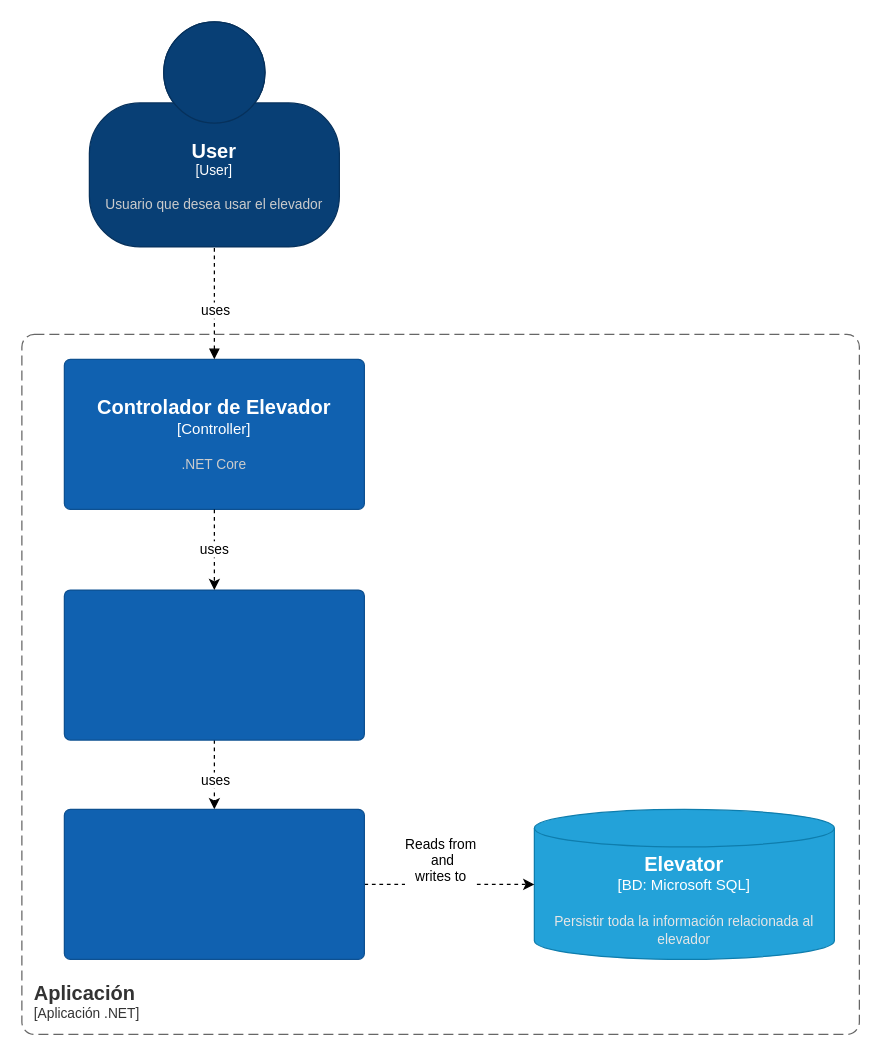
This 881x1056 diagram has some shape labels left out. The centre of each missing label's shape, as x and y in pixels:
Repositorio de Elevador [Interface] .NET Core: pixel 213 883
Servicio de Elevador [Servicio] .NET Core: pixel 213 664
